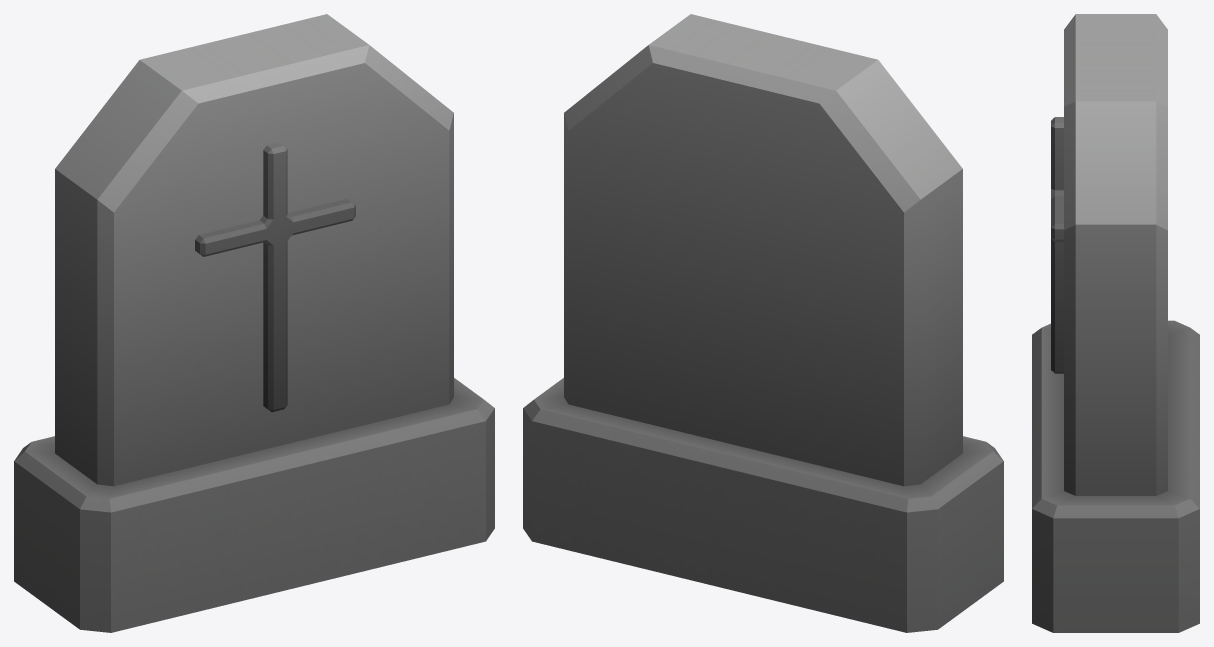
File: Tombstone9.fbx
3 renders of one model, left to right at view 1: azimuth 30°, elevation 25°; view 2: azimuth 150°, elevation 25°; view 3: azimuth 270°, elevation 25°, orthographic. The views are drawn at different scales.
Parts seen in each view (by area): view 1: Tombstone9; view 2: Tombstone9; view 3: Tombstone9.
Part boxes in pixels (x1,y1,x2,y2): Tombstone9: (14,14,494,632); Tombstone9: (523,14,1003,632); Tombstone9: (1032,14,1199,632).
Bounding box in the file's own units: 1.16 × 1.35 × 0.4277.
1 material, 1 textured.
